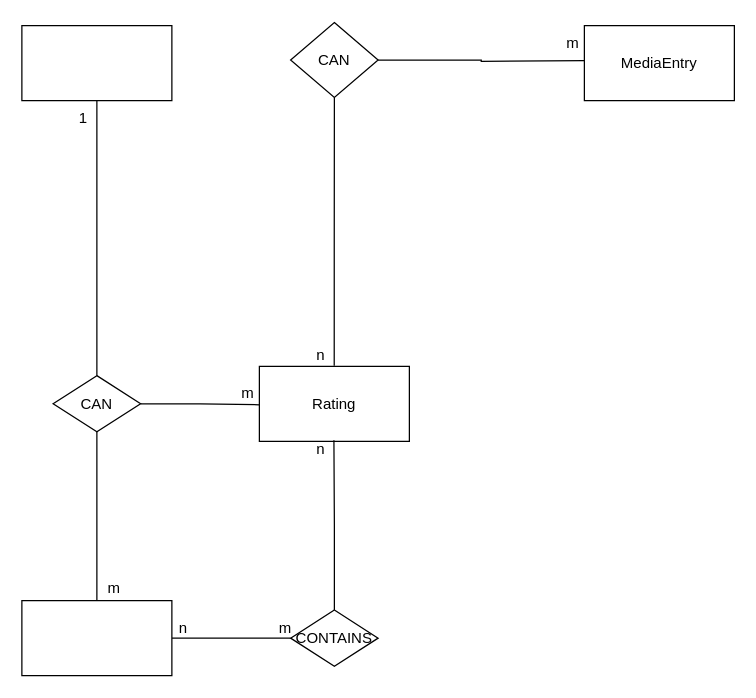
Some shapes in this 756 by 698 pixel diagram are drawn without their labels. Each missing label, with the centre of its shape:
"Likes" belongs at point 96,637.
"User" belongs at point 96,62.
